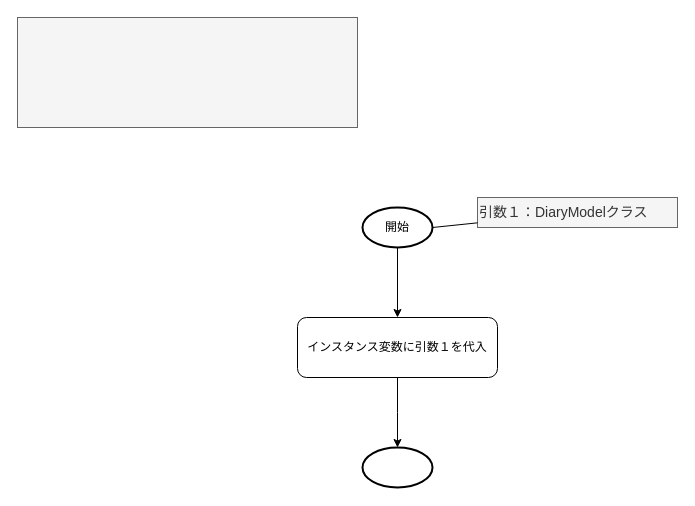
Some shapes in this 695 by 506 pixel diagram are drawn without their labels. Here are the shapes that lost their labels. From the top down, the box of each, then its label:
(16, 16, 358, 128): 初期化メソッド クラス：DiaryControllerクラス 役割 ビジネスロジックを定義する
(361, 446, 433, 488): 終了
